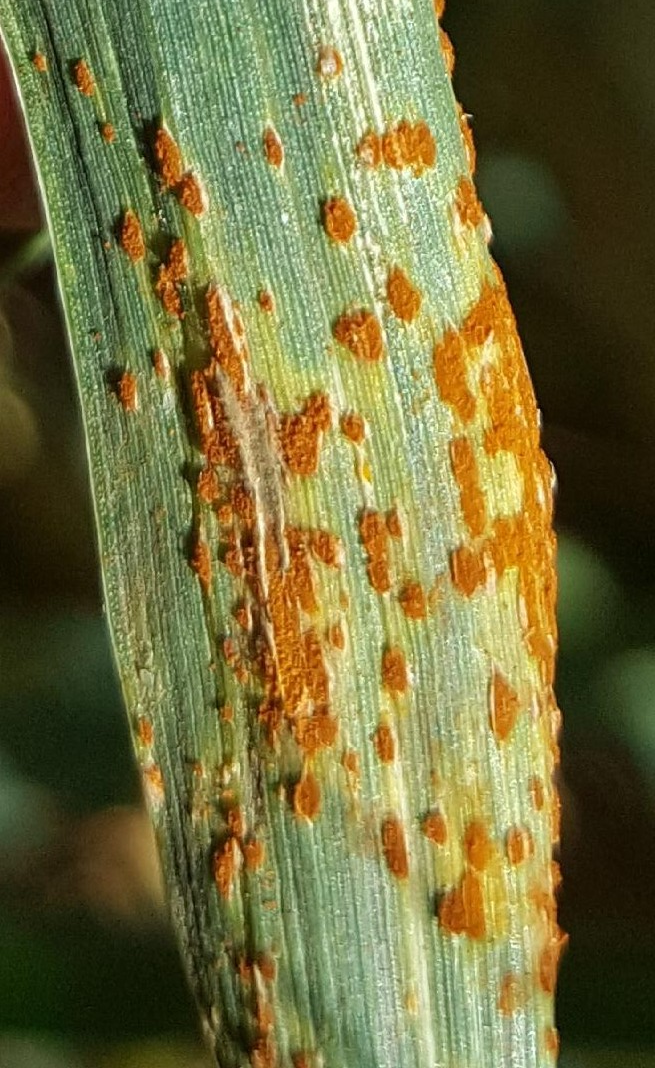Leaf Rust: (92, 78, 584, 941)
